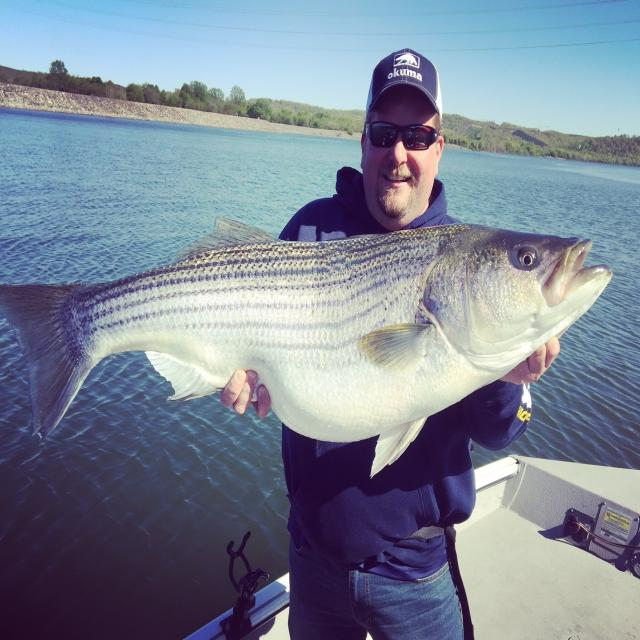Bass - Striped: (0, 219, 611, 475)
